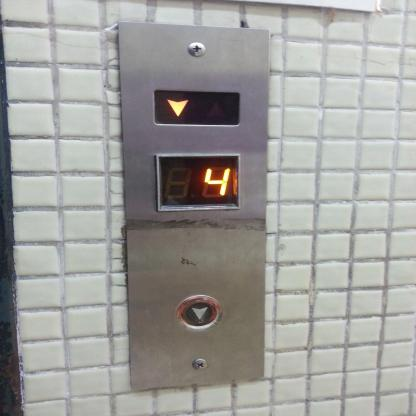down: (171, 293, 226, 331)
led: (154, 152, 244, 212), (151, 88, 242, 128)
